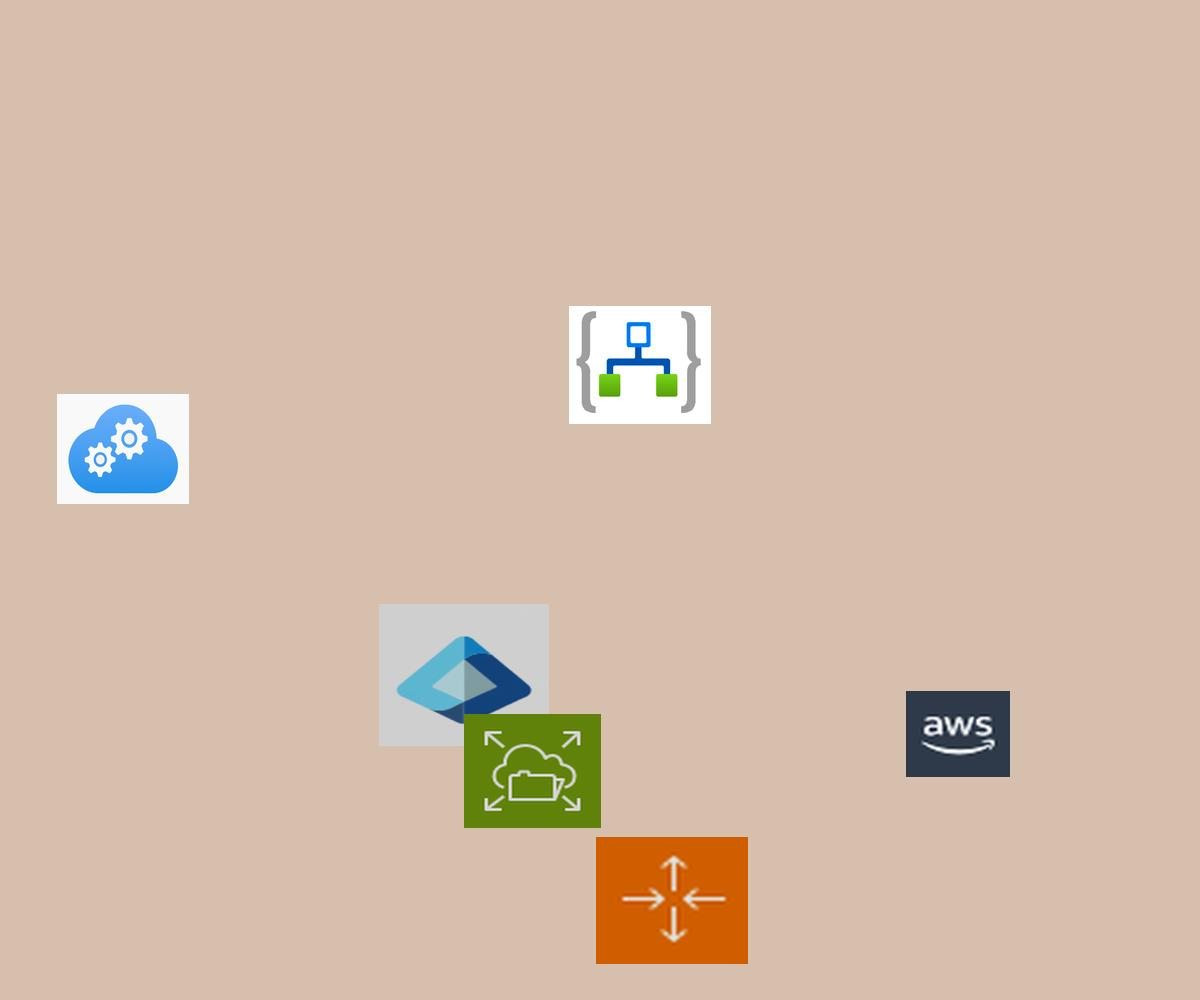AWS-Cloud-logo: (906, 691, 1010, 777)
AWS-EFS: (464, 714, 601, 828)
AWS-Scaling-group: (596, 837, 748, 964)
Azure_cloud_services: (57, 394, 189, 504)
Azure_integration-204-Logic-Apps: (569, 306, 711, 424)
Azure_microsoft_entra: (379, 604, 549, 746)
